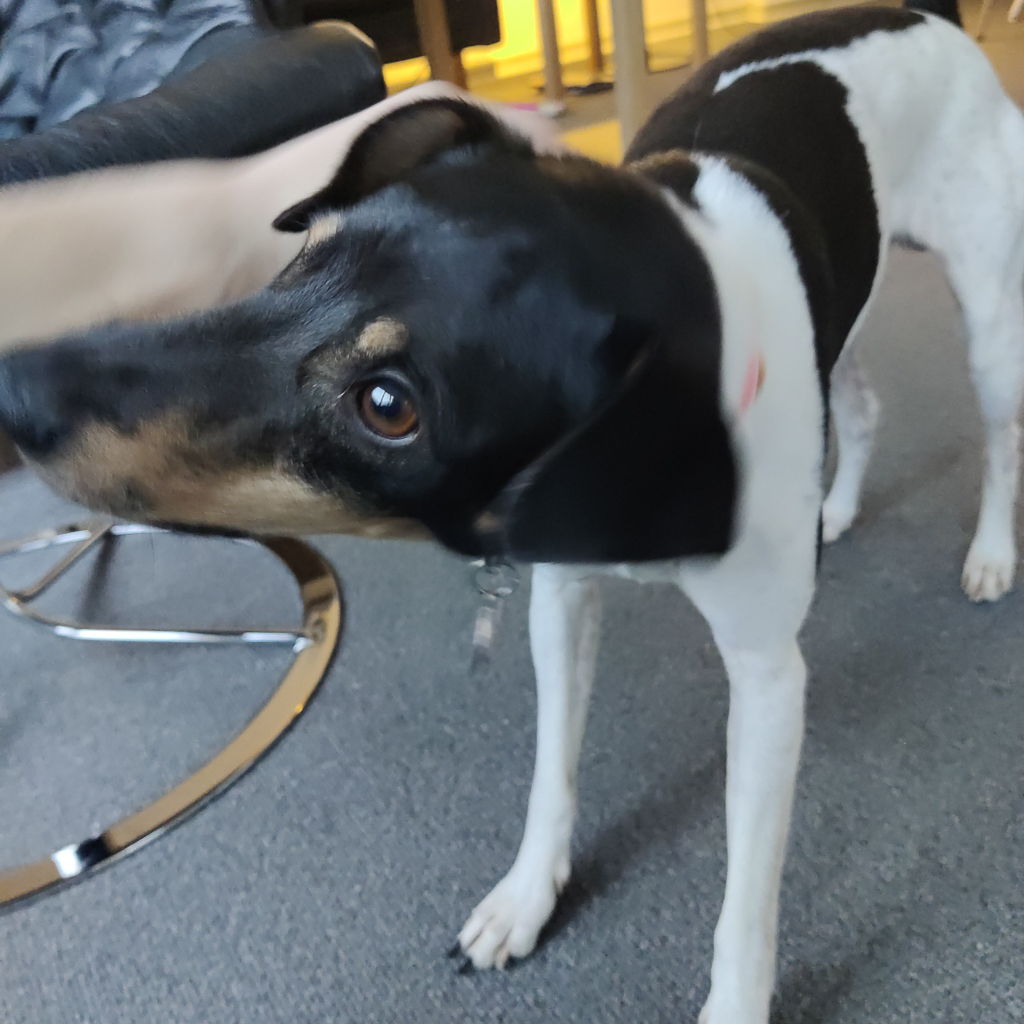Dog: (0, 0, 1024, 1024)
Humanoid: (0, 40, 588, 431)
